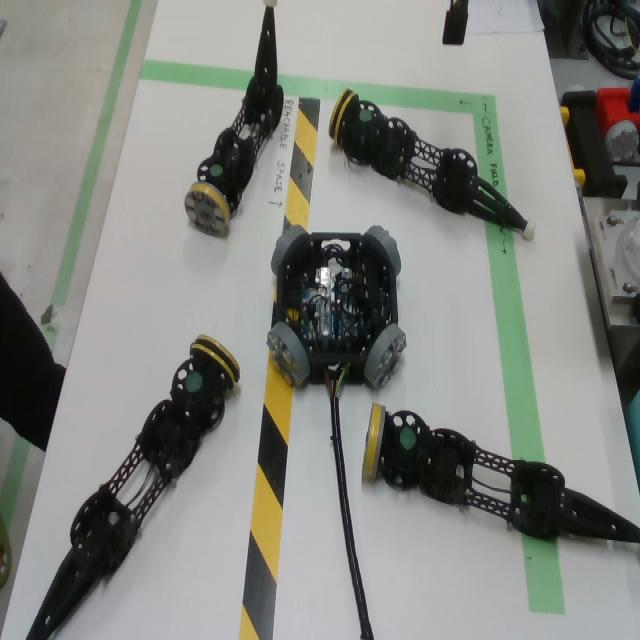body: (278, 232, 398, 385)
body_connector: (266, 321, 310, 388), (364, 324, 407, 391), (271, 225, 310, 276), (363, 225, 401, 277)
leg: (25, 333, 240, 640), (360, 401, 640, 544), (328, 88, 536, 240), (183, 0, 284, 237)
leg_connector: (189, 335, 240, 392), (184, 181, 230, 237), (362, 403, 386, 481), (328, 88, 359, 144)
leg_marker: (399, 427, 417, 451), (185, 371, 203, 393), (359, 109, 373, 123), (209, 164, 223, 177)
